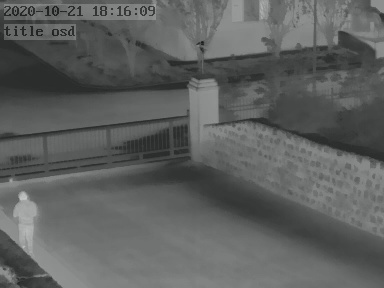person: (11, 187, 39, 252)
